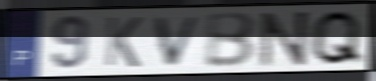9: (50, 14, 90, 73)
B: (205, 10, 258, 69)
K: (102, 15, 144, 69)
N: (258, 9, 311, 69)
Q: (308, 9, 366, 68)
V: (152, 14, 204, 68)
